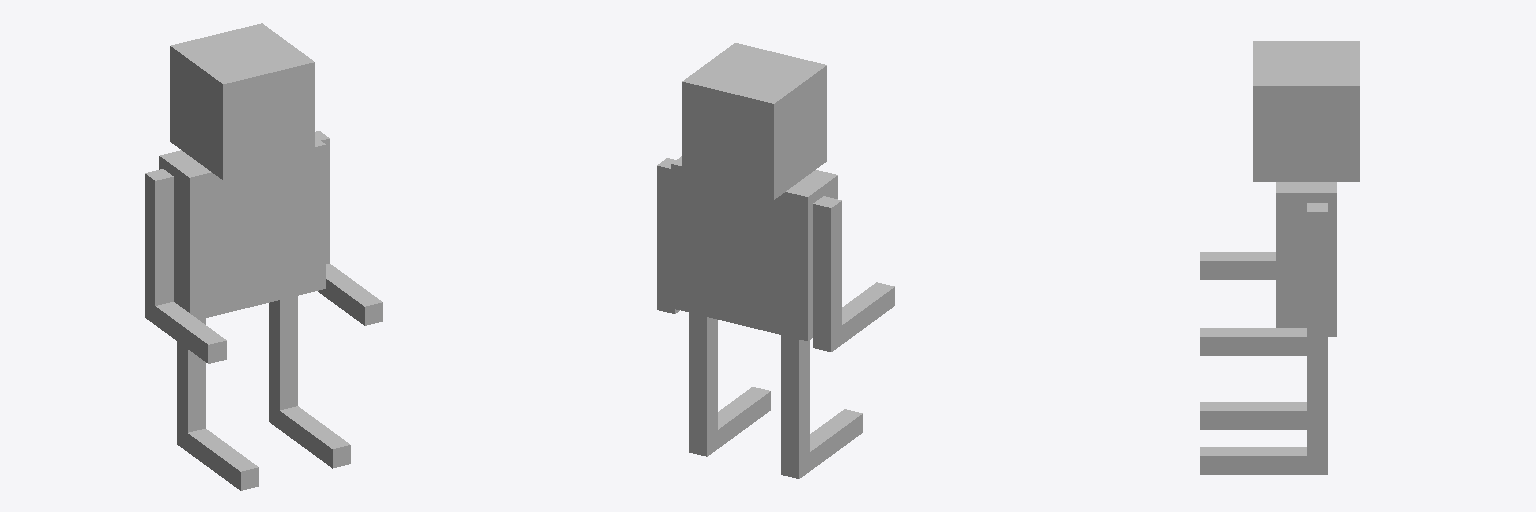
File: Character.obj
The picture shows the model from 3 angles: view 1: azimuth 30°, elevation 25°; view 2: azimuth 150°, elevation 25°; view 3: azimuth 270°, elevation 25°; orthographic projection.
Visible parts, largest first — view 1: Body, Head, RightArm, LeftLeg, RightLeg, LeftArm; view 2: Body, Head, RightArm, RightLeg, LeftLeg, LeftArm; view 3: Head, Body, LeftArm, LeftLeg, RightLeg, RightArm.
Part boxes in pixels (bbox=[...]): Body: bbox=[159, 137, 325, 319]; Head: bbox=[170, 23, 314, 180]; RightArm: bbox=[145, 169, 226, 363]; LeftLeg: bbox=[269, 296, 350, 468]; RightLeg: bbox=[177, 318, 258, 490]; LeftArm: bbox=[315, 131, 382, 325]; Body: bbox=[671, 156, 837, 340]; Head: bbox=[682, 43, 826, 199]; RightArm: bbox=[813, 196, 894, 351]; RightLeg: bbox=[781, 335, 862, 478]; LeftLeg: bbox=[689, 313, 770, 456]; LeftArm: bbox=[657, 158, 679, 313]; Head: bbox=[1253, 41, 1359, 181]; Body: bbox=[1276, 182, 1336, 336]; LeftArm: bbox=[1200, 203, 1327, 355]; LeftLeg: bbox=[1200, 356, 1327, 474]; RightLeg: bbox=[1200, 402, 1306, 429]; RightArm: bbox=[1200, 252, 1275, 279].
Bounding box in the file's own units: 0.95 × 2 × 0.75.